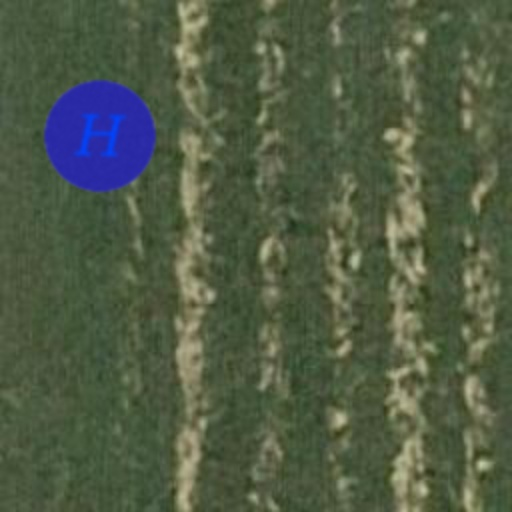circle: (42, 78, 158, 194)
